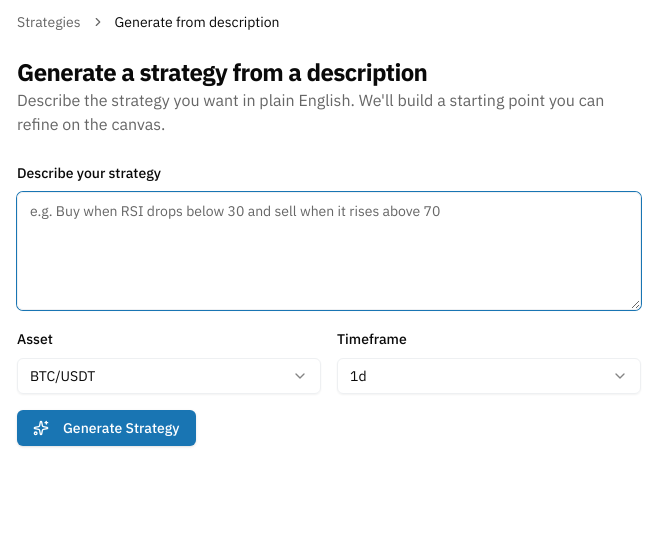
Scenario: DraftFromNlPage › shows the decline reason and a rephrase hint without navigating when the drafter declines
Replace the text in the text box labelled "Describe your strategy" with "do something impossible" at (329, 251), box x1=17 y1=192 x2=641 y2=310
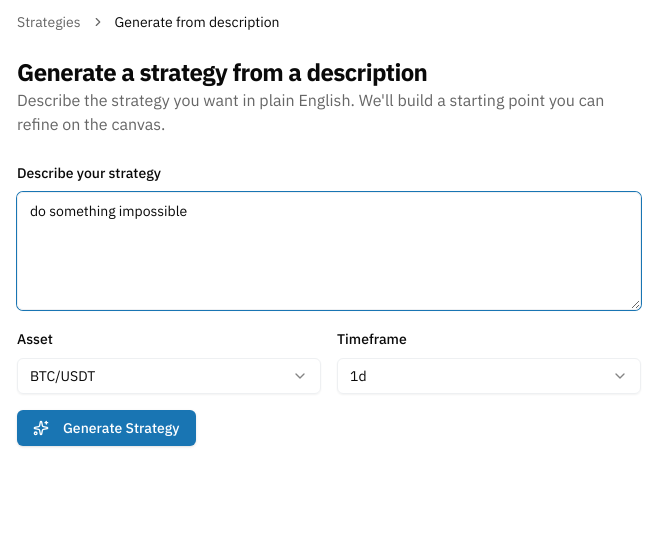
Click the button "Generate Strategy" at (106, 428), box x1=17 y1=410 x2=196 y2=446
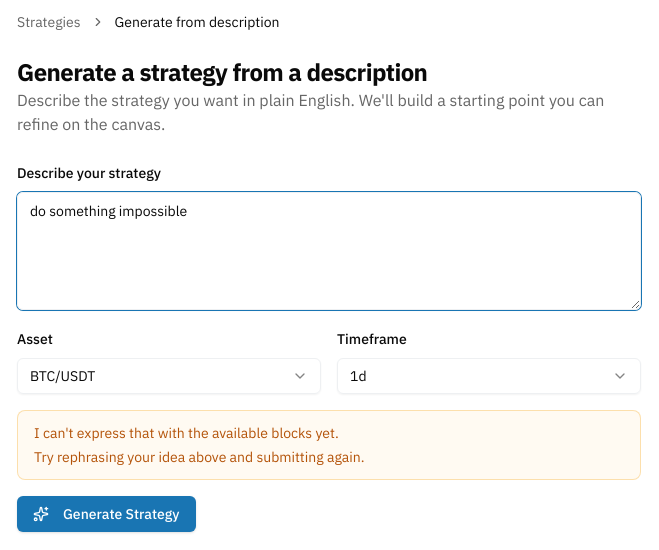
Now the text "I can't express that with the available blocks yet." is shown, box x1=34 y1=424 x2=339 y2=442
Now the text "Try rephrasing your idea above and submitting again." is shown, box x1=34 y1=448 x2=364 y2=466
